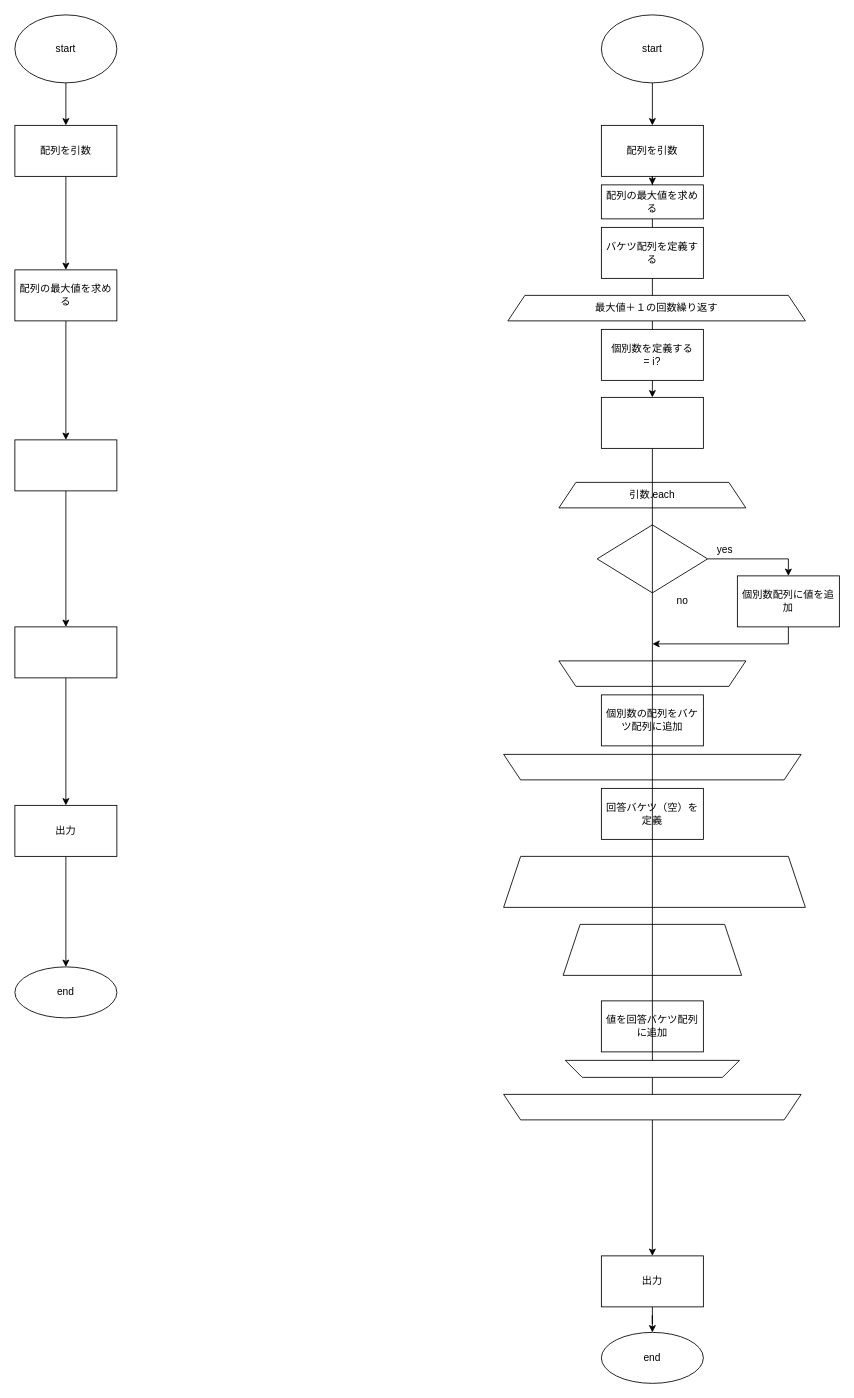
The diagram is 854 pixels wide and 1398 high, and some of its shapes have lost their labels. Each missing label, with the box of its shape:
iと同じ: (596, 524, 708, 593)
バケツから順番に取り出す: (14, 626, 117, 678)
バケツに順番に入れる: (14, 439, 117, 491)
バケツ配列.each: (503, 856, 805, 907)
個別数の配列を定義する: (601, 397, 703, 448)
個別配列.each: (562, 924, 742, 975)
